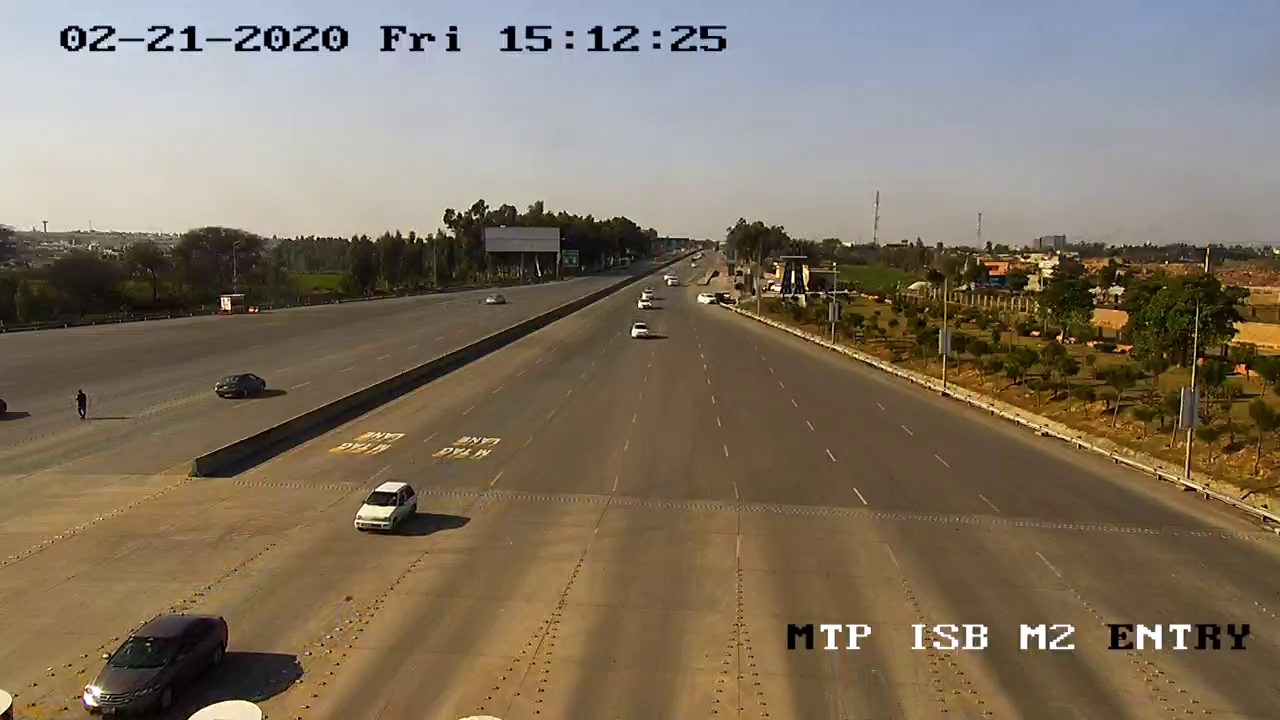f1: (78, 604, 236, 719), (351, 476, 423, 538)
